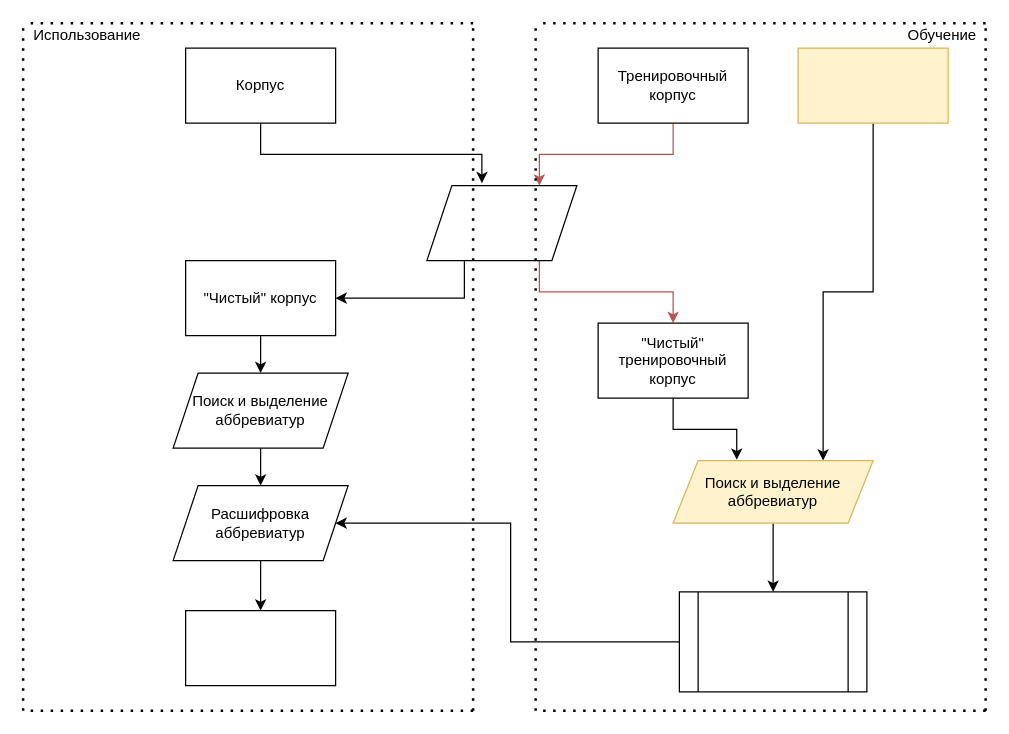
Some shapes in this 1009 by 734 pixel diagram are drawn without their labels. Each missing label, with the centre of its shape:
"Модель расшифровки аббревиатур" goes at (772,641).
"Расшифрованный корпус" goes at (260,647).
"Словарь терминов с их аббревиатурами" goes at (872,85).
"Чистка текста" goes at (501,222).
